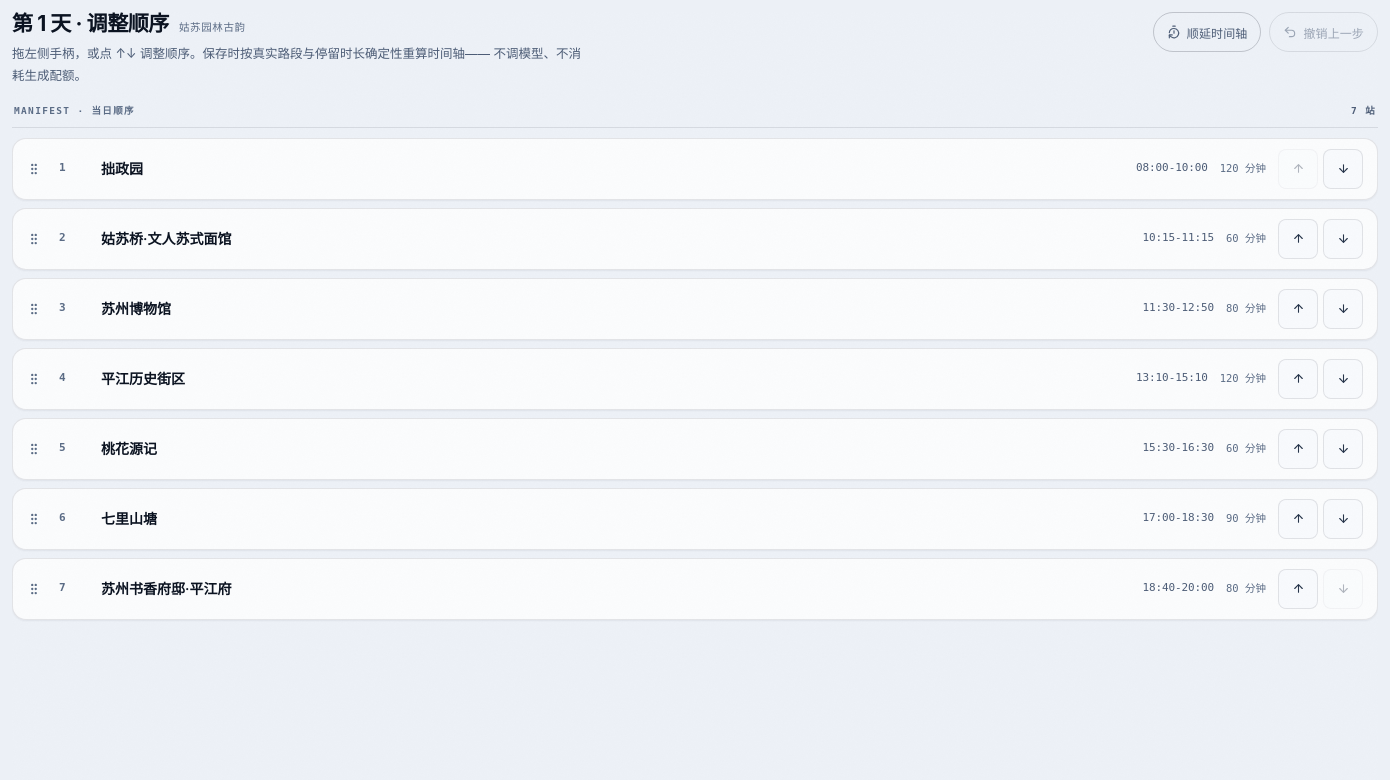
DayArrange 调整镜头 › 保存失败：回滚顺序并给出可行动错误
This screenshot has width=1390, height=780.
Click the button named "下移 拙政园" at (1343, 169), box x1=1323 y1=149 x2=1363 y2=189
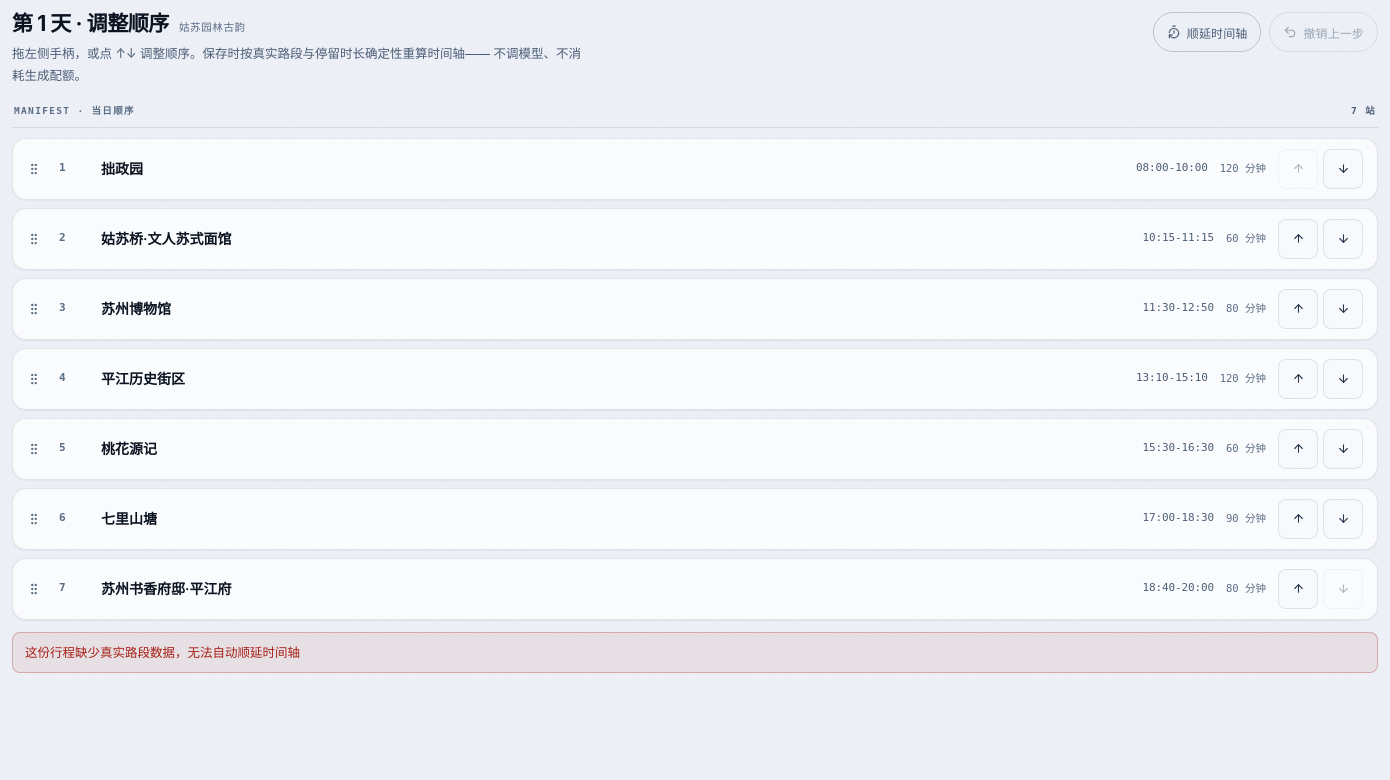
Expected: the list item "1 拙政园 08:00-10:00 120 分钟" is shown, x1=12 y1=138 x2=1378 y2=200
Expected: the message shows "缺少真实路段数据", x1=25 y1=645 x2=300 y2=660
